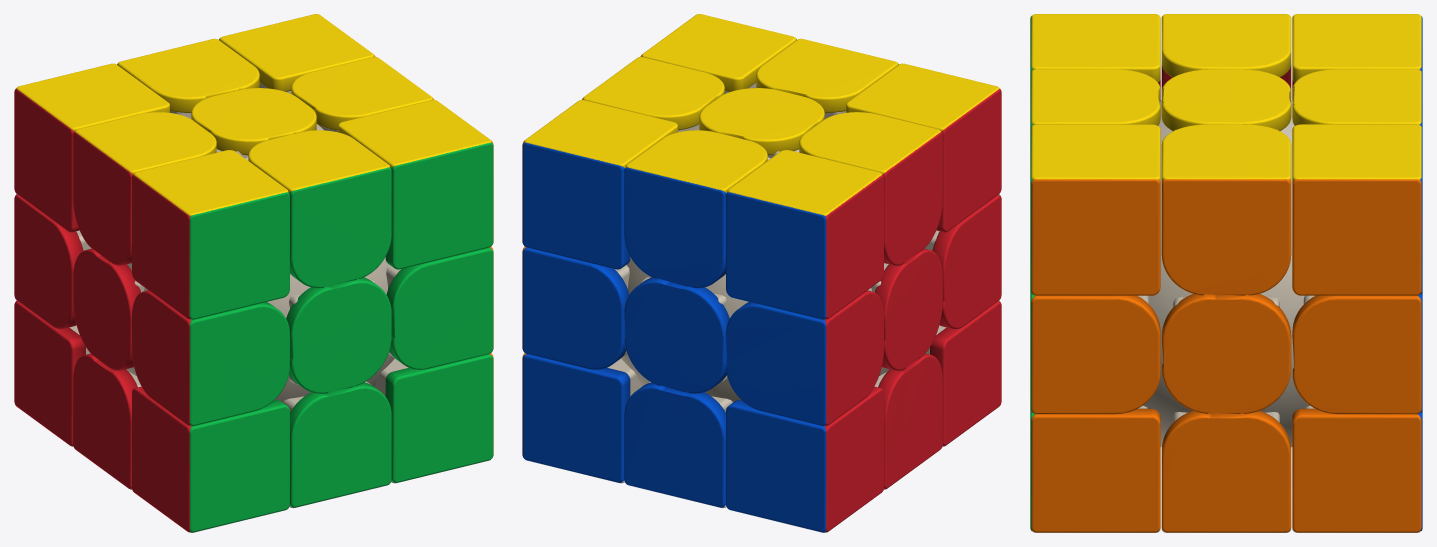
3 views of the same model, side by side, from view 1: azimuth 30°, elevation 25°; view 2: azimuth 150°, elevation 25°; view 3: azimuth 270°, elevation 25° (orthographic). The views are drawn at different scales.
Parts seen in each view (by area): view 1: piece_-1,1,1, piece_-1,-1,1, piece_1,1,1, piece_-1,0,1, piece_0,1,1, piece_-1,1,-1, piece_1,-1,1, piece_-1,1,0, piece_1,0,1, piece_0,-1,1, piece_0,0,1, piece_-1,-1,-1 (+8 smaller); view 2: piece_-1,1,-1, piece_-1,-1,-1, piece_1,1,-1, piece_-1,0,-1, piece_0,1,-1, piece_-1,1,1, piece_1,-1,-1, piece_-1,1,0, piece_1,0,-1, piece_0,-1,-1, piece_0,0,-1, piece_-1,-1,1 (+8 smaller); view 3: piece_1,1,-1, piece_1,1,1, piece_1,1,0, piece_1,-1,1, piece_1,-1,-1, piece_1,-1,0, piece_1,0,1, piece_1,0,-1, piece_1,0,0, piece_-1,1,0, piece_-1,1,-1, piece_-1,1,1 (+4 smaller).
Boxes of the visible parts, <box> form: piece_-1,1,1: <box>132,150,289,319</box>; piece_-1,-1,1: <box>132,386,289,532</box>; piece_1,1,1: <box>338,100,493,269</box>; piece_-1,0,1: <box>132,290,289,425</box>; piece_0,1,1: <box>248,130,391,288</box>; piece_-1,1,-1: <box>14,63,169,232</box>; piece_1,-1,1: <box>374,353,493,483</box>; piece_-1,1,0: <box>73,112,216,265</box>; piece_1,0,1: <box>386,247,493,369</box>; piece_0,-1,1: <box>283,381,391,508</box>; piece_0,0,1: <box>286,277,391,393</box>; piece_-1,-1,-1: <box>14,300,90,446</box>; piece_-1,1,-1: <box>726,150,883,319</box>; piece_-1,-1,-1: <box>726,386,883,532</box>; piece_1,1,-1: <box>522,100,677,269</box>; piece_-1,0,-1: <box>726,290,883,425</box>; piece_0,1,-1: <box>624,130,767,288</box>; piece_-1,1,1: <box>846,63,1001,232</box>; piece_1,-1,-1: <box>522,353,641,483</box>; piece_-1,1,0: <box>799,112,942,265</box>; piece_1,0,-1: <box>522,247,629,369</box>; piece_0,-1,-1: <box>624,381,732,508</box>; piece_0,0,-1: <box>624,277,729,393</box>; piece_-1,-1,1: <box>925,300,1001,446</box>; piece_1,1,-1: <box>1292,124,1422,295</box>; piece_1,1,1: <box>1030,124,1160,295</box>; piece_1,1,0: <box>1161,124,1291,295</box>; piece_1,-1,1: <box>1030,405,1160,532</box>; piece_1,-1,-1: <box>1292,405,1422,532</box>; piece_1,-1,0: <box>1161,411,1291,532</box>; piece_1,0,1: <box>1030,292,1160,414</box>; piece_1,0,-1: <box>1292,292,1422,414</box>; piece_1,0,0: <box>1161,294,1291,414</box>; piece_-1,1,0: <box>1161,14,1291,98</box>; piece_-1,1,-1: <box>1292,14,1422,99</box>; piece_-1,1,1: <box>1030,14,1160,99</box>.
Bounding box in the file's own units: 2 × 2 × 2.
